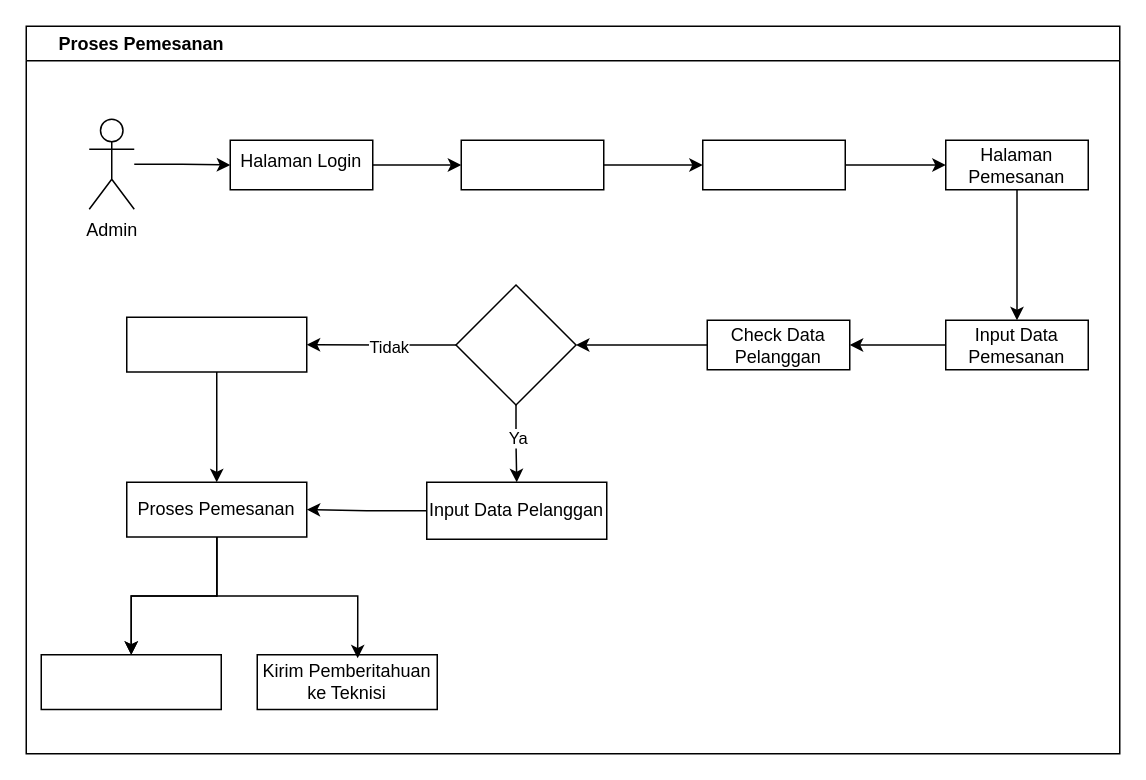
This 1146x780 diagram has some shape labels left out. The shapes that lost their labels are listed below. From the top down, each one's centre as x and y in pixels, then its label:
At (532,164): "Dashboard".
At (773,164): "Menu Transaksi".
At (216,344): "Tampilkan Data Pelanggan".
At (515,344): "Pelanggan Baru".
At (130,681): "Kirim Pemberitahuan ke Pelanggan".
